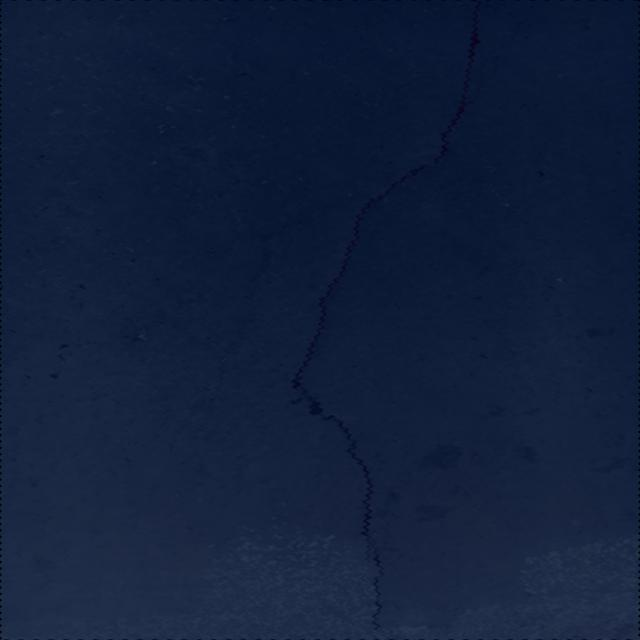crack: (276, 0, 523, 631), (205, 230, 281, 409), (171, 398, 205, 458), (180, 473, 186, 489)
